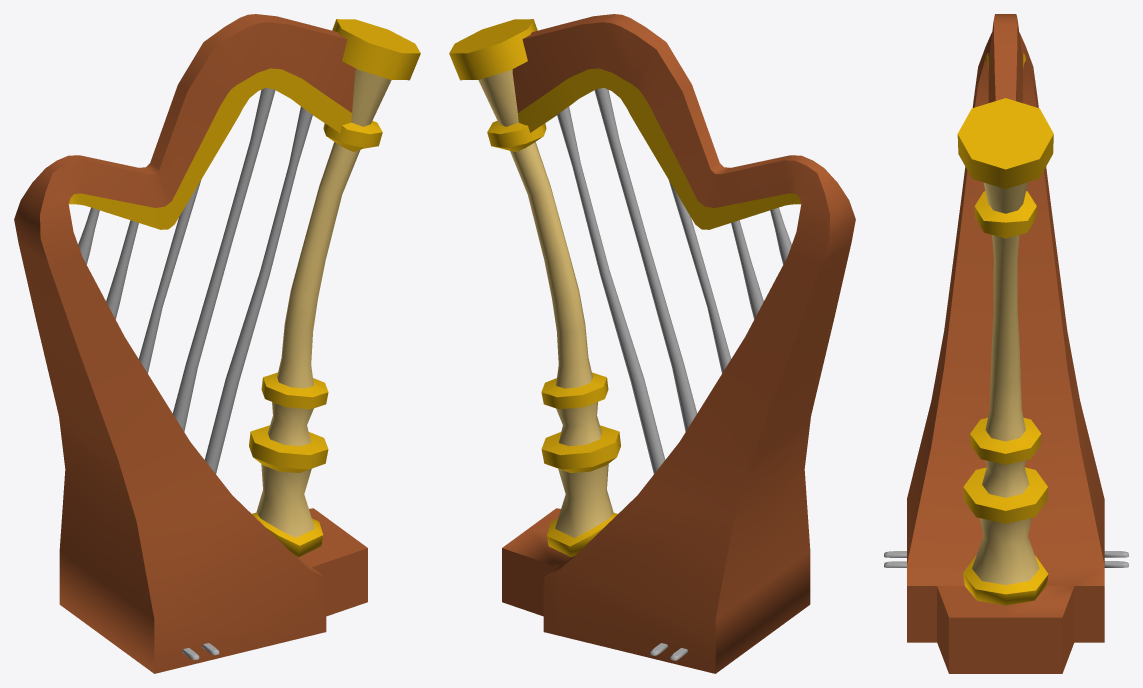
The model's file is props_harp.fbx.
3 views of the same model, side by side, from view 1: azimuth 30°, elevation 25°; view 2: azimuth 150°, elevation 25°; view 3: azimuth 270°, elevation 25° (orthographic). The views are drawn at different scales.
Parts seen in each view (by area): view 1: ornements; view 2: ornements; view 3: ornements.
Part boxes in pixels (x1,y1,x2,y2): ornements: [14, 14, 420, 673]; ornements: [449, 14, 855, 673]; ornements: [884, 14, 1128, 673].
Bounding box in the file's own units: 179 × 258 × 93.79.
